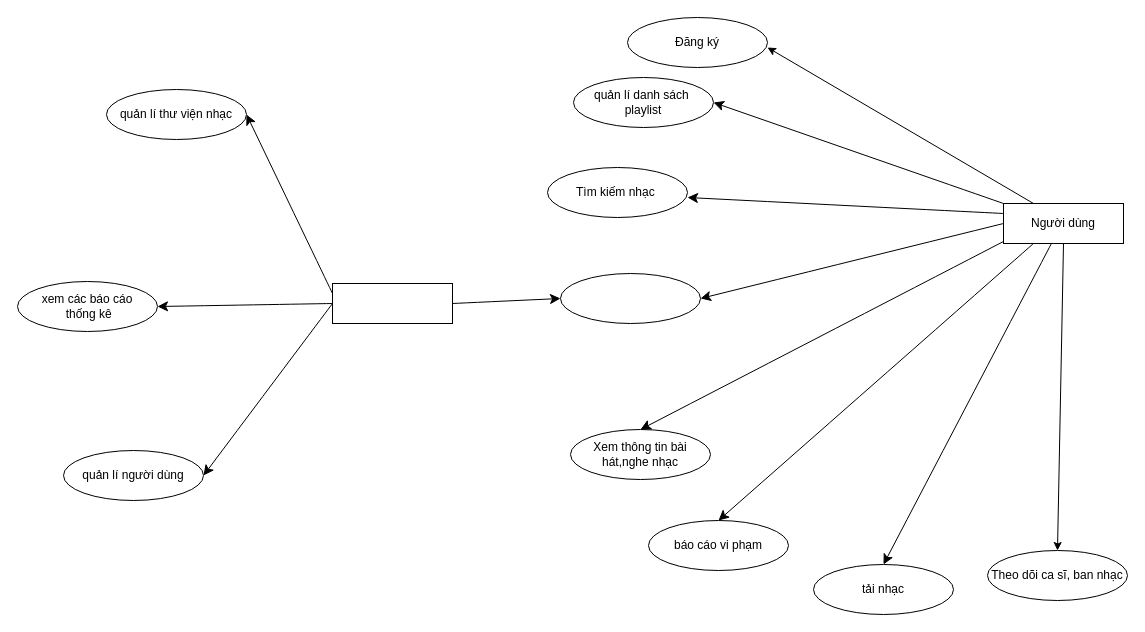
Some shapes in this 1145 by 632 pixel diagram are drawn without their labels. The centre of each missing label's shape, as x and y in pixels:
Quản trị viên: the point at 392,303
Đăng nhập: the point at 630,298
